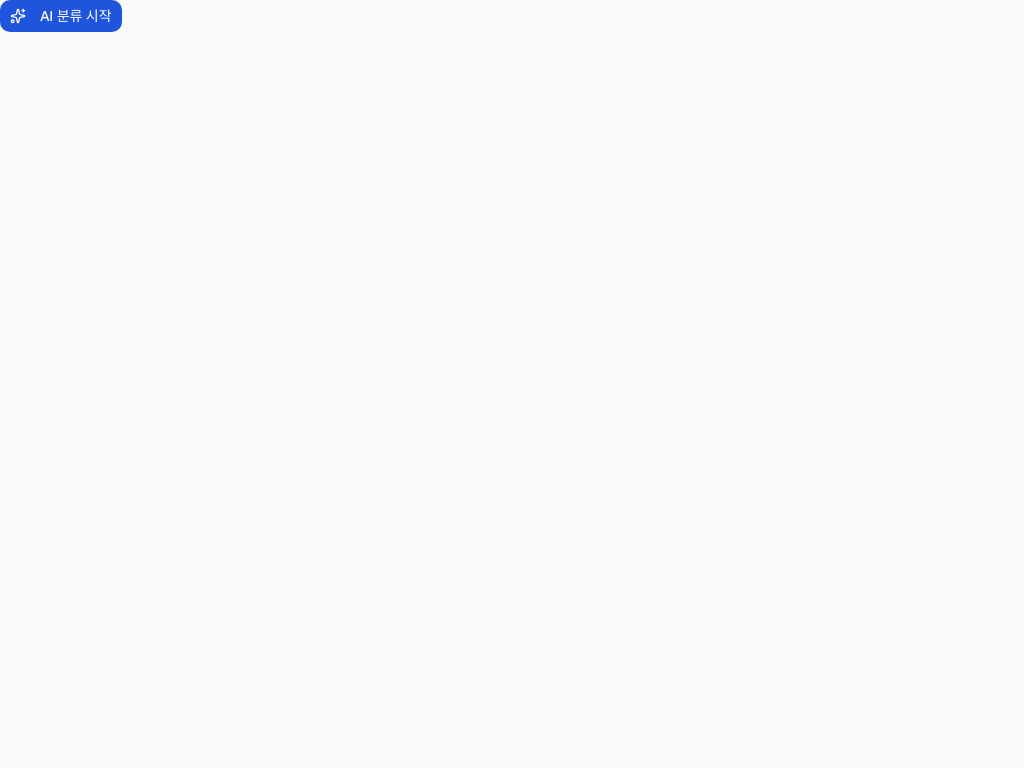
Test: AIClassificationButton › 클릭 시 확인 다이얼로그 표시
The image size is (1024, 768).
Click the button "AI 분류 시작" at (61, 16), box [0, 0, 122, 32]
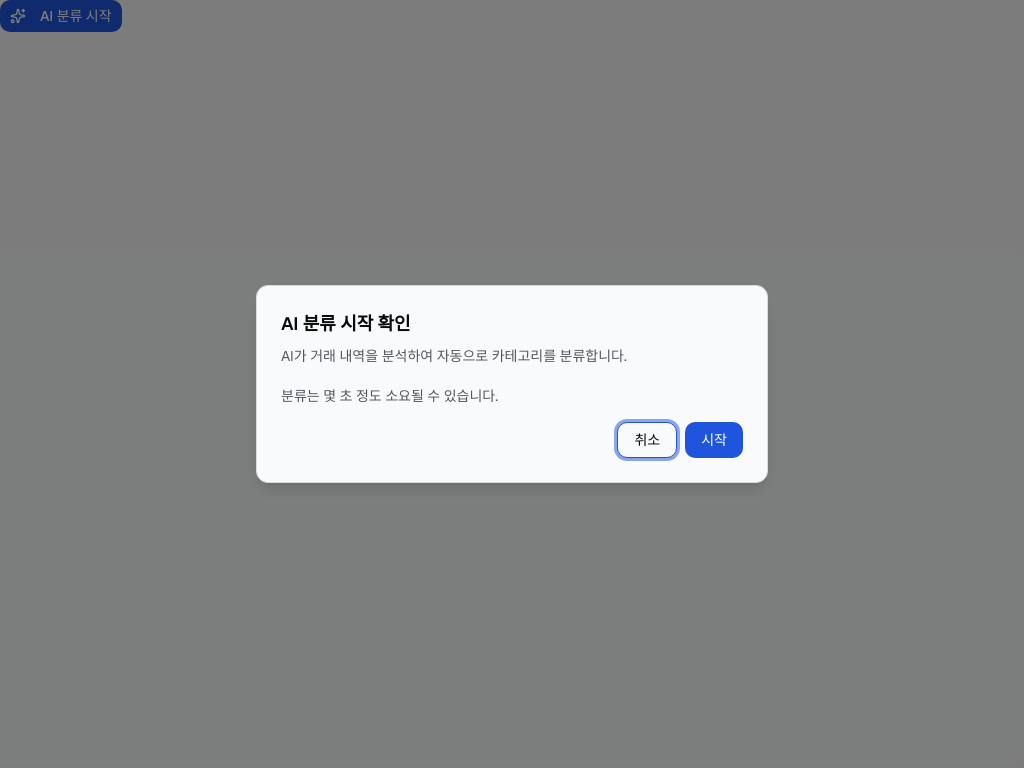
Result: the dialog "AI 분류 시작 확인" is shown at [256, 285, 768, 483]
Result: the heading "AI 분류 시작 확인" is shown at [281, 312, 411, 335]
Result: the text "AI가 거래 내역을 분석하여 자동으로 카테고리를 분류합니다.분류는 몇 초 정도 소요될 수 있습니다." is shown at [281, 347, 627, 405]
